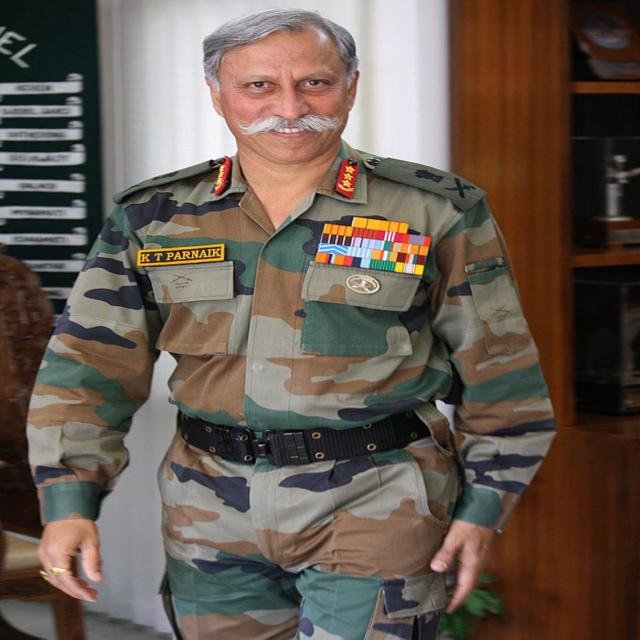Face: (214, 30, 370, 165)
